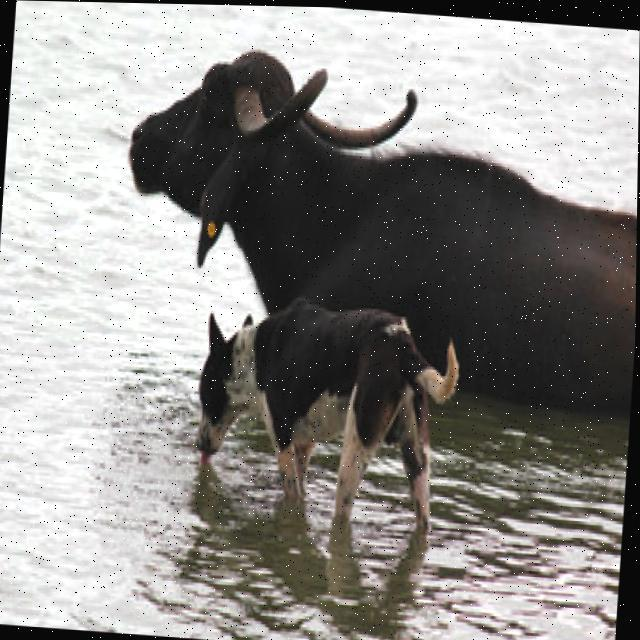Buffalo: (112, 37, 639, 415)
